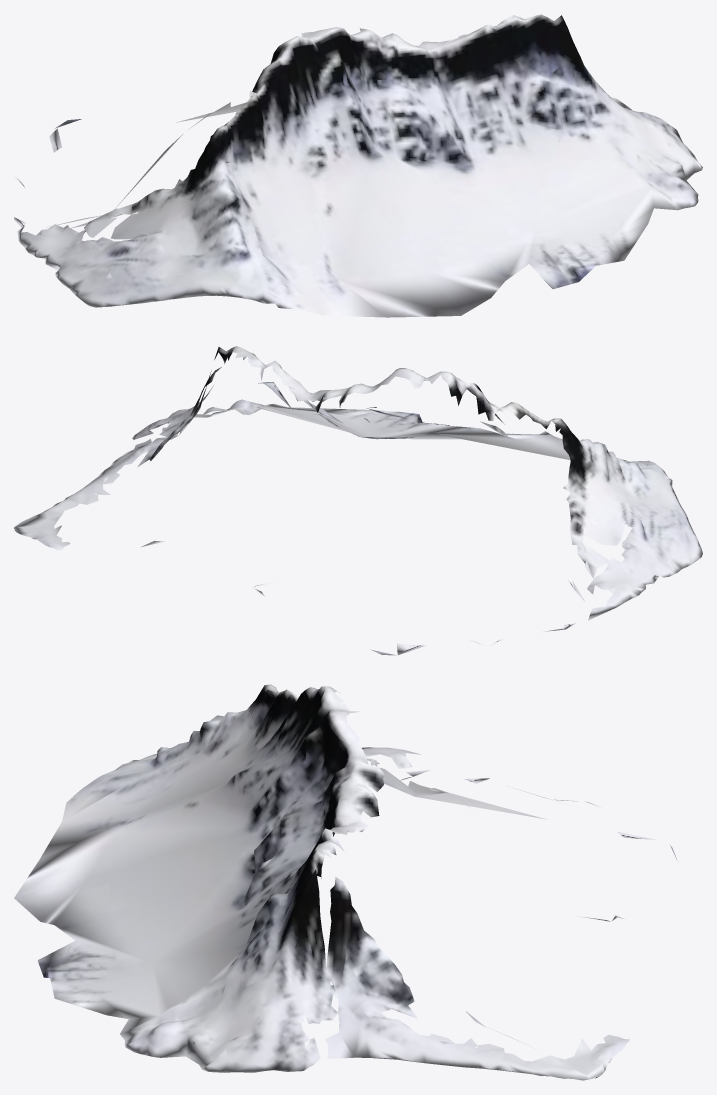
File: mountain-ridge-balanced.glb
3 renders of one model, top to bottom at view 1: azimuth 30°, elevation 25°; view 2: azimuth 150°, elevation 25°; view 3: azimuth 270°, elevation 25°, orthographic. The views are drawn at different scales.
Visible parts, largest first — view 1: mountain-ridge-balanced; view 2: mountain-ridge-balanced; view 3: mountain-ridge-balanced.
Part boxes in pixels (x1,y1,x2,y2): mountain-ridge-balanced: [14, 14, 702, 317]; mountain-ridge-balanced: [14, 346, 702, 655]; mountain-ridge-balanced: [14, 684, 677, 1080].
Bounding box in the file's own units: 2 × 0.6001 × 1.76.
Materials: 1 (1 with a texture image).
